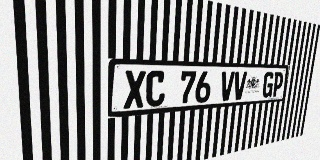6: (195, 71, 212, 103)
7: (178, 71, 197, 105)
C: (145, 71, 166, 107)
G: (262, 72, 275, 98)
P: (272, 72, 284, 97)
V: (219, 71, 235, 101), (232, 71, 247, 100)
X: (124, 70, 146, 109)
